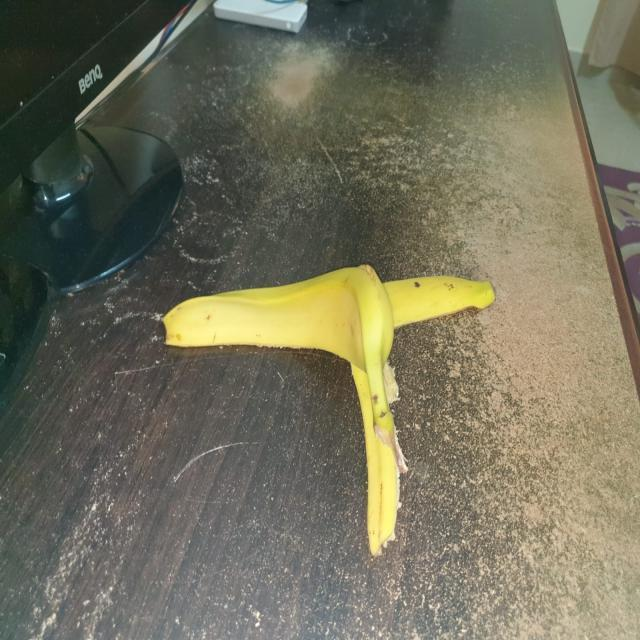banana-peel: (159, 262, 495, 557)
